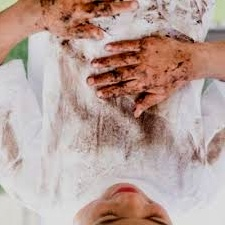earth: (88, 118, 123, 145), (138, 117, 166, 143), (3, 127, 20, 159), (146, 1, 168, 21), (64, 71, 76, 103), (208, 136, 222, 162), (106, 100, 130, 115), (192, 2, 206, 22), (61, 41, 71, 51)
